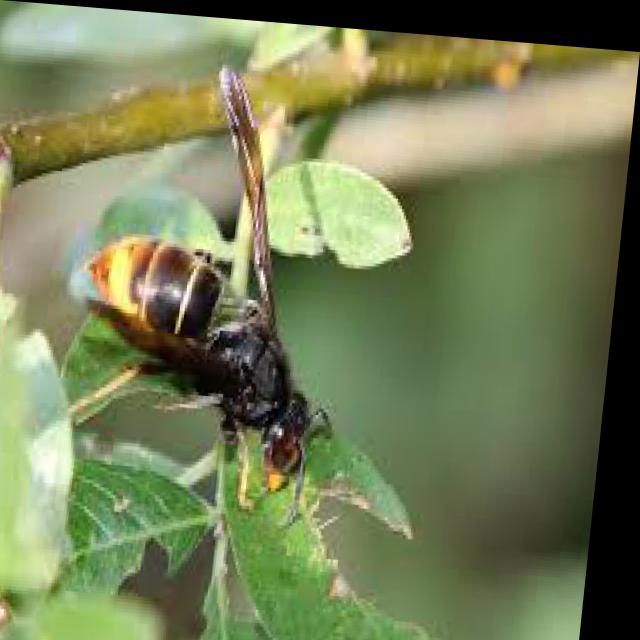Vespa Velutina: (55, 43, 376, 536)
